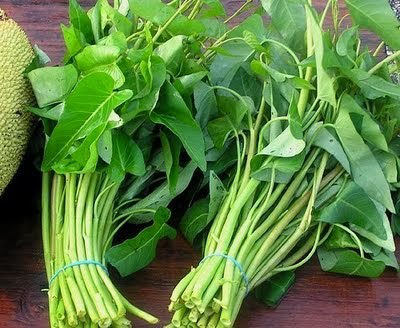Bayam: (42, 5, 397, 309)
